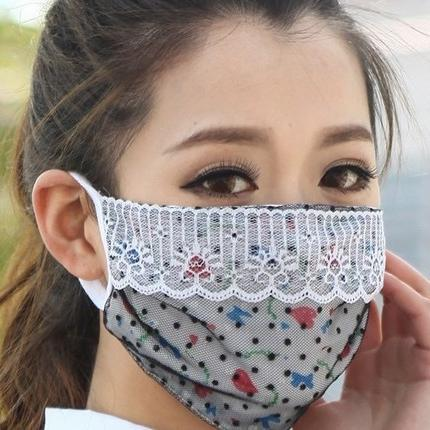OK: (91, 110, 388, 425)
